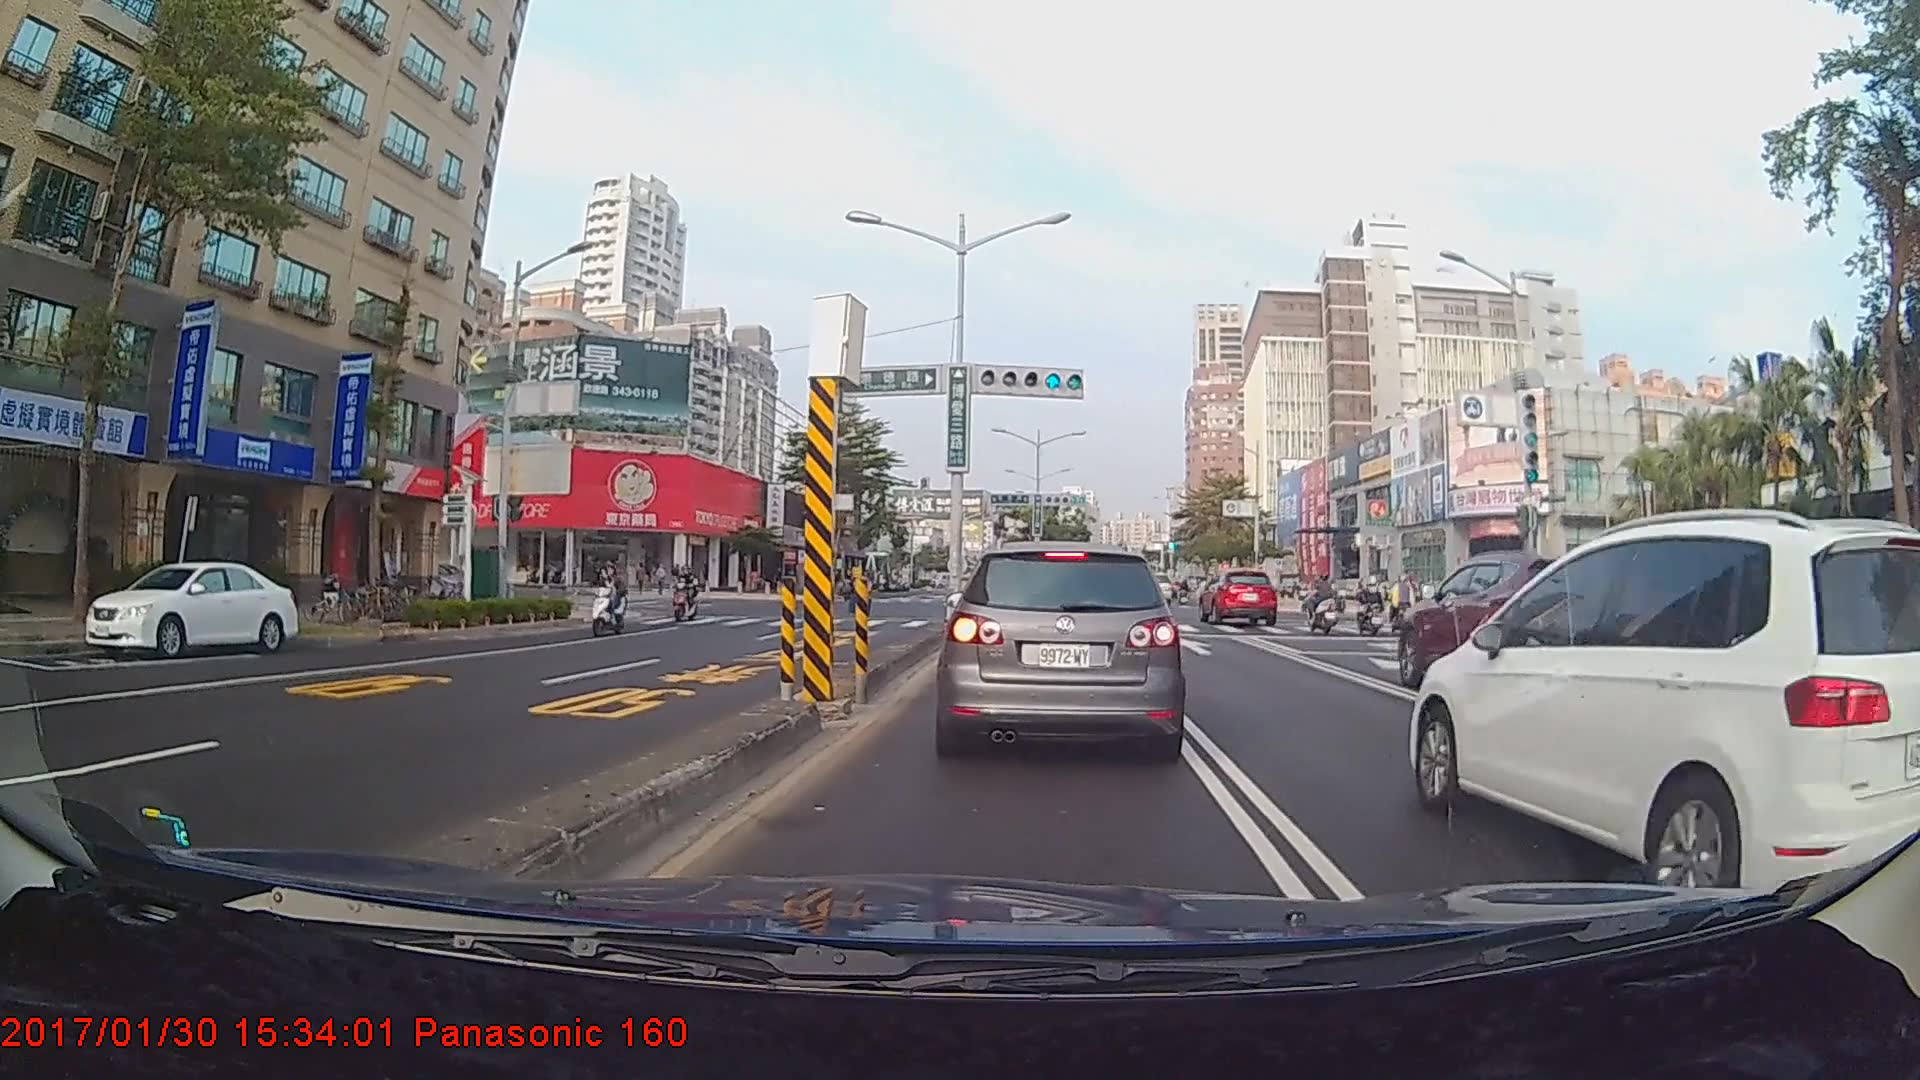rider: (585, 563, 635, 643), (1300, 571, 1350, 633), (1348, 574, 1396, 637), (674, 568, 707, 627)
vehicle: (1406, 504, 1913, 884), (945, 540, 1182, 757), (1401, 551, 1661, 702), (84, 561, 297, 659), (1199, 567, 1281, 626), (1135, 568, 1172, 605)
